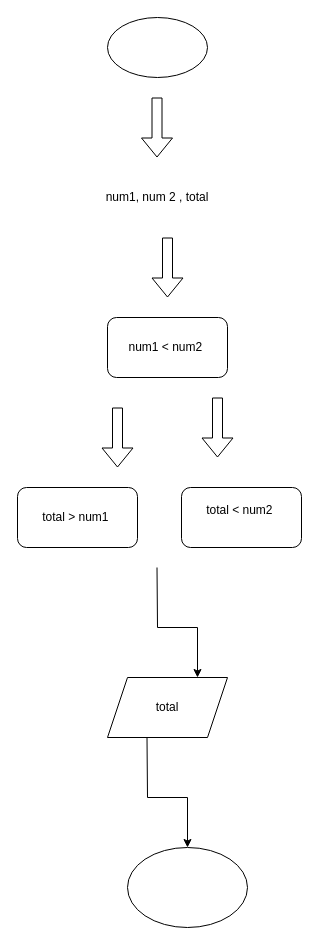
This 319x945 diagram has some shape labels left out. Each missing label, with the centre of its shape:
bắt đầu: (157,47)
End\: (187,887)
